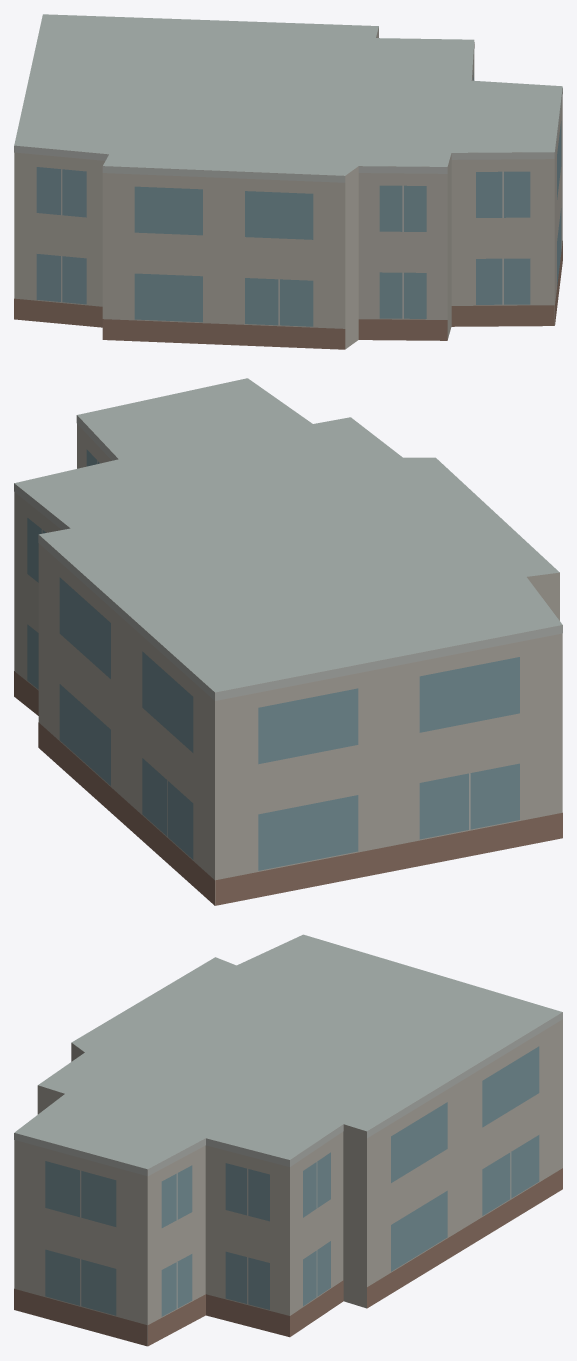
Rendered from survey-upis-32675689.glb.
3 renders of one model, top to bottom at view 1: azimuth 30°, elevation 25°; view 2: azimuth 150°, elevation 25°; view 3: azimuth 270°, elevation 25°, orthographic. The views are drawn at different scales.
Parts seen in each view (by area): view 1: survey-upis-32675689.tmp; view 2: survey-upis-32675689.tmp; view 3: survey-upis-32675689.tmp.
Boxes of the visible parts, bbox=[...] form: survey-upis-32675689.tmp: bbox=[14, 14, 562, 349]; survey-upis-32675689.tmp: bbox=[14, 378, 562, 905]; survey-upis-32675689.tmp: bbox=[14, 934, 562, 1346].
Size of the model in its own units: 17.35 by 6.1 by 17.14.
